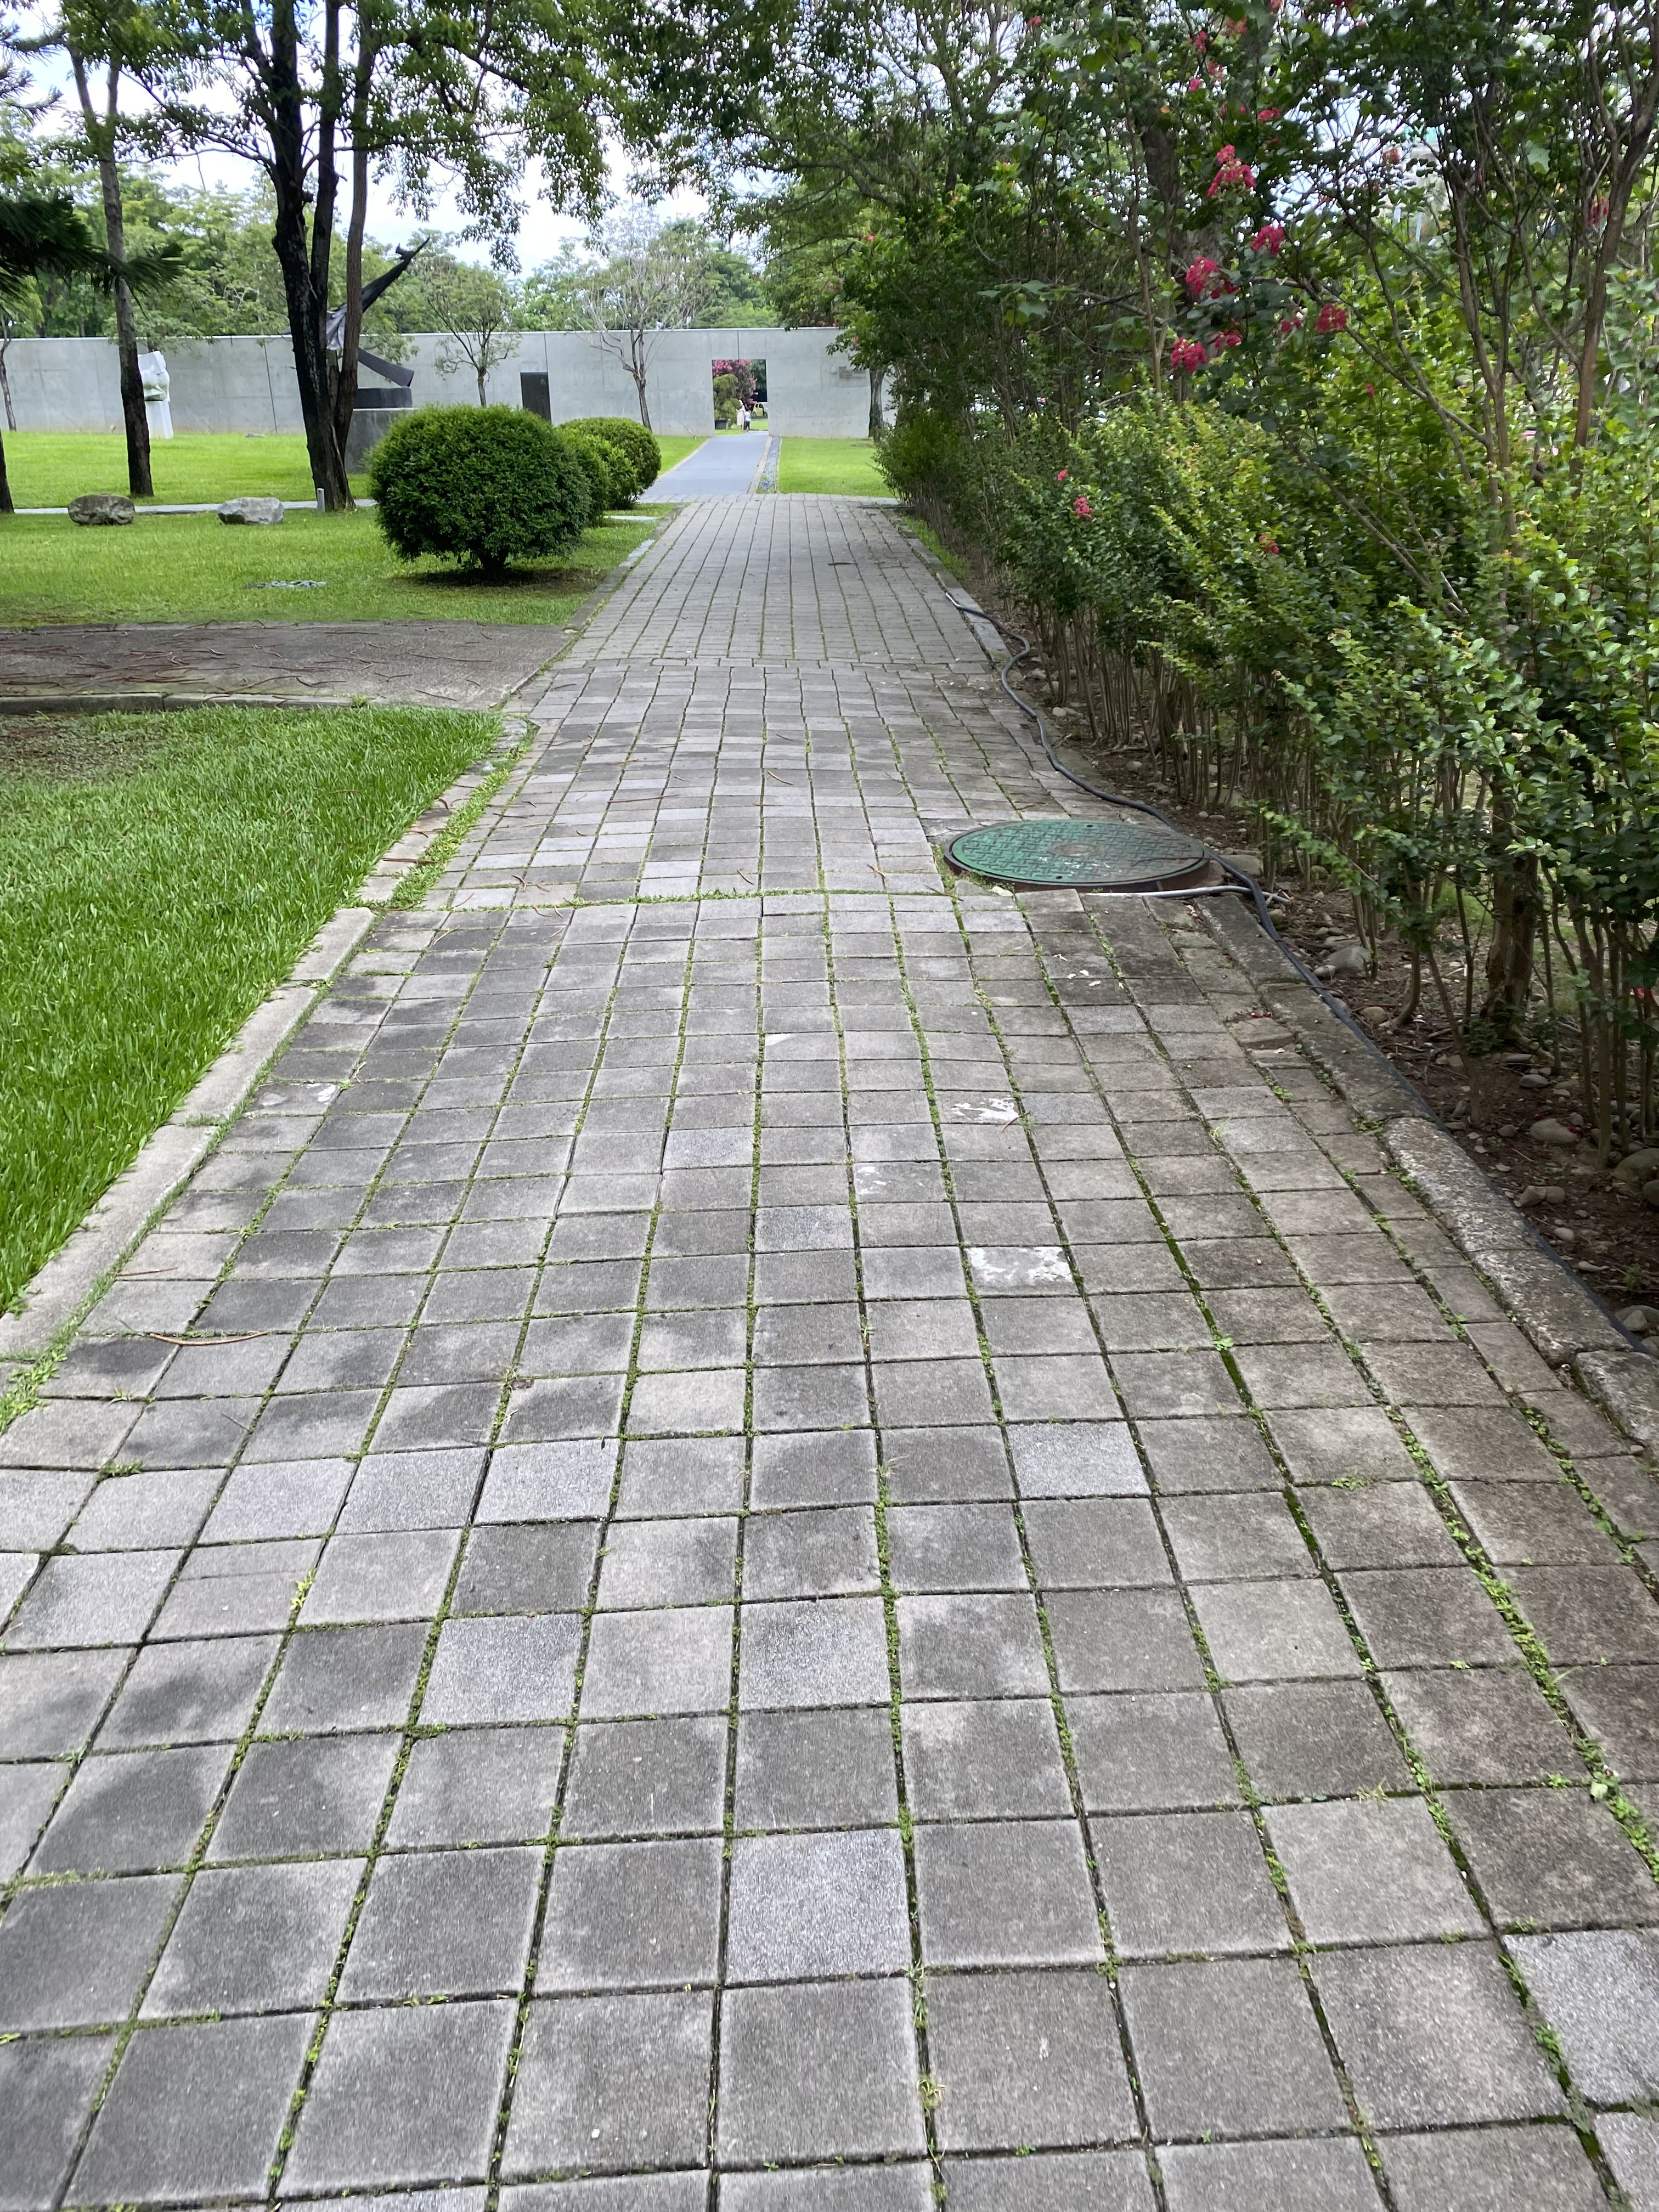0: (634, 376, 931, 644)
sidewalk: (0, 610, 1650, 2200)
